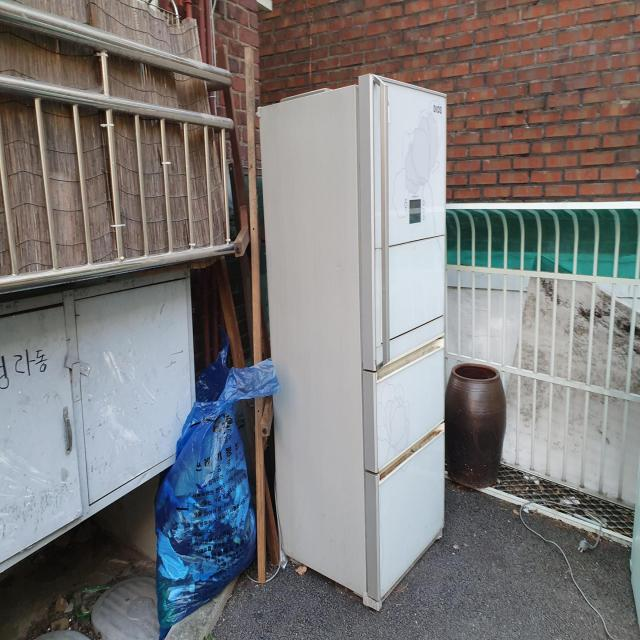refrigerator: (253, 71, 451, 614)
